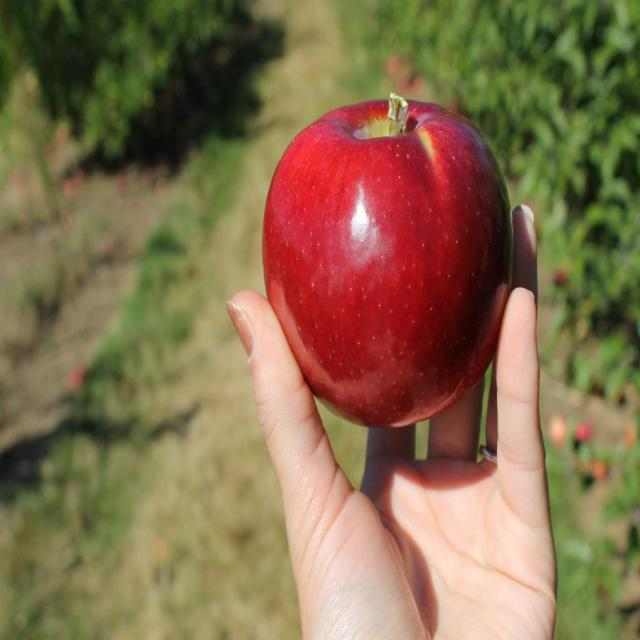Apple: (262, 83, 514, 432)
